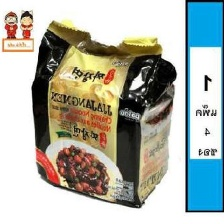snack: (25, 13, 182, 213)
